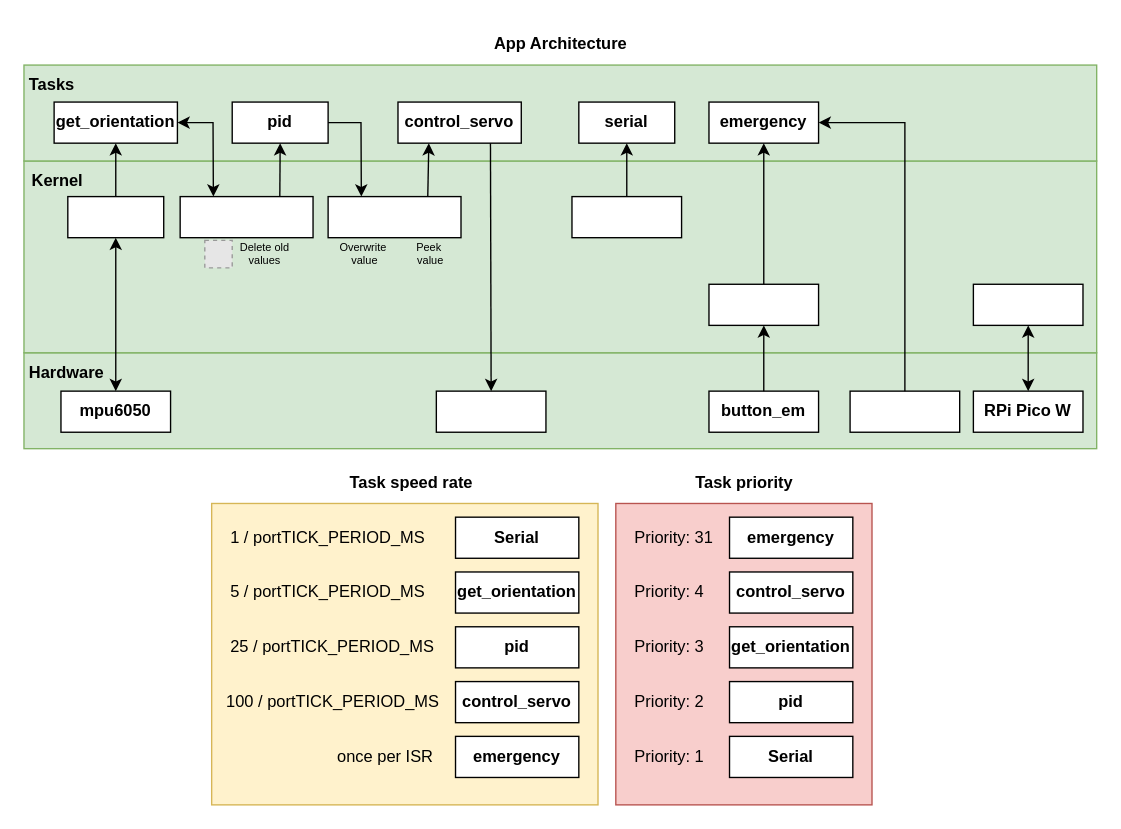
Some shapes in this 1121 by 829 pixel diagram are drawn without their labels. Grey dashed boxes stand in for pictures. Each missing label, with the box of its shape:
button_reset: (849, 390, 960, 432)
Free RTOS: (972, 283, 1083, 325)
i2c.h: (66, 195, 164, 238)
isr: (708, 283, 819, 325)
Queue_sensor: (179, 195, 313, 238)
Queue_serial: (571, 195, 682, 238)
Queue_servo: (327, 195, 461, 238)
servo: (435, 390, 546, 432)
